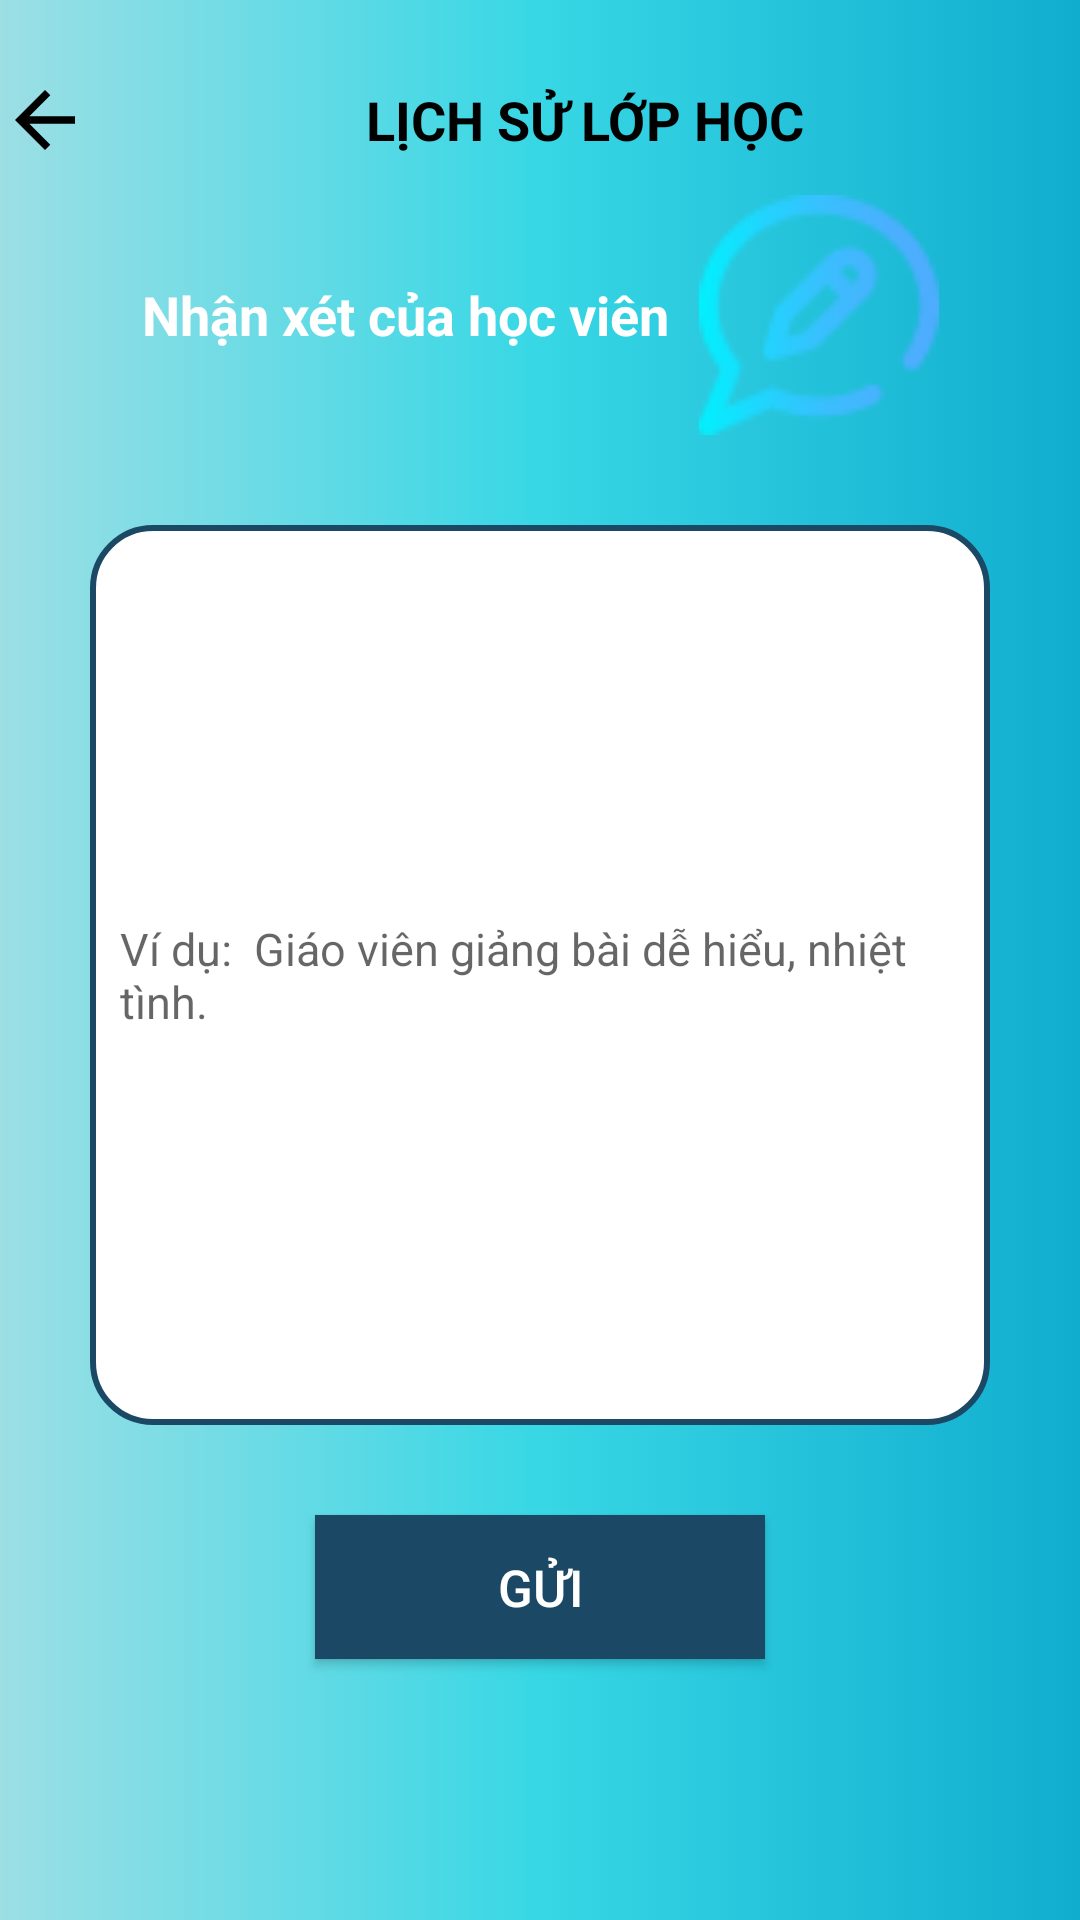

Point at icon controls on the screen. Image size 1080×1920, points as (x,y).
back arrow: (52,120)
feedback: (804,315)
